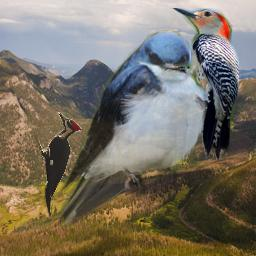Swallow: (52, 29, 212, 227)
Woodpecker: (161, 8, 239, 160), (34, 112, 82, 217)
